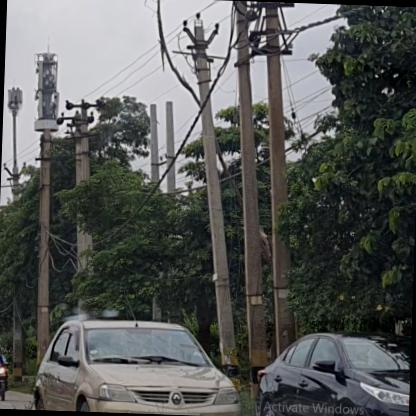car: (33, 317, 247, 415), (256, 327, 412, 415)
motorcycle: (0, 343, 12, 403)
